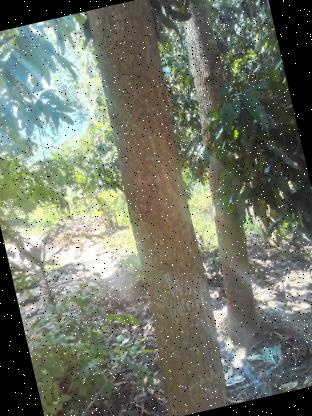tree: (75, 0, 247, 416), (156, 0, 292, 354)
